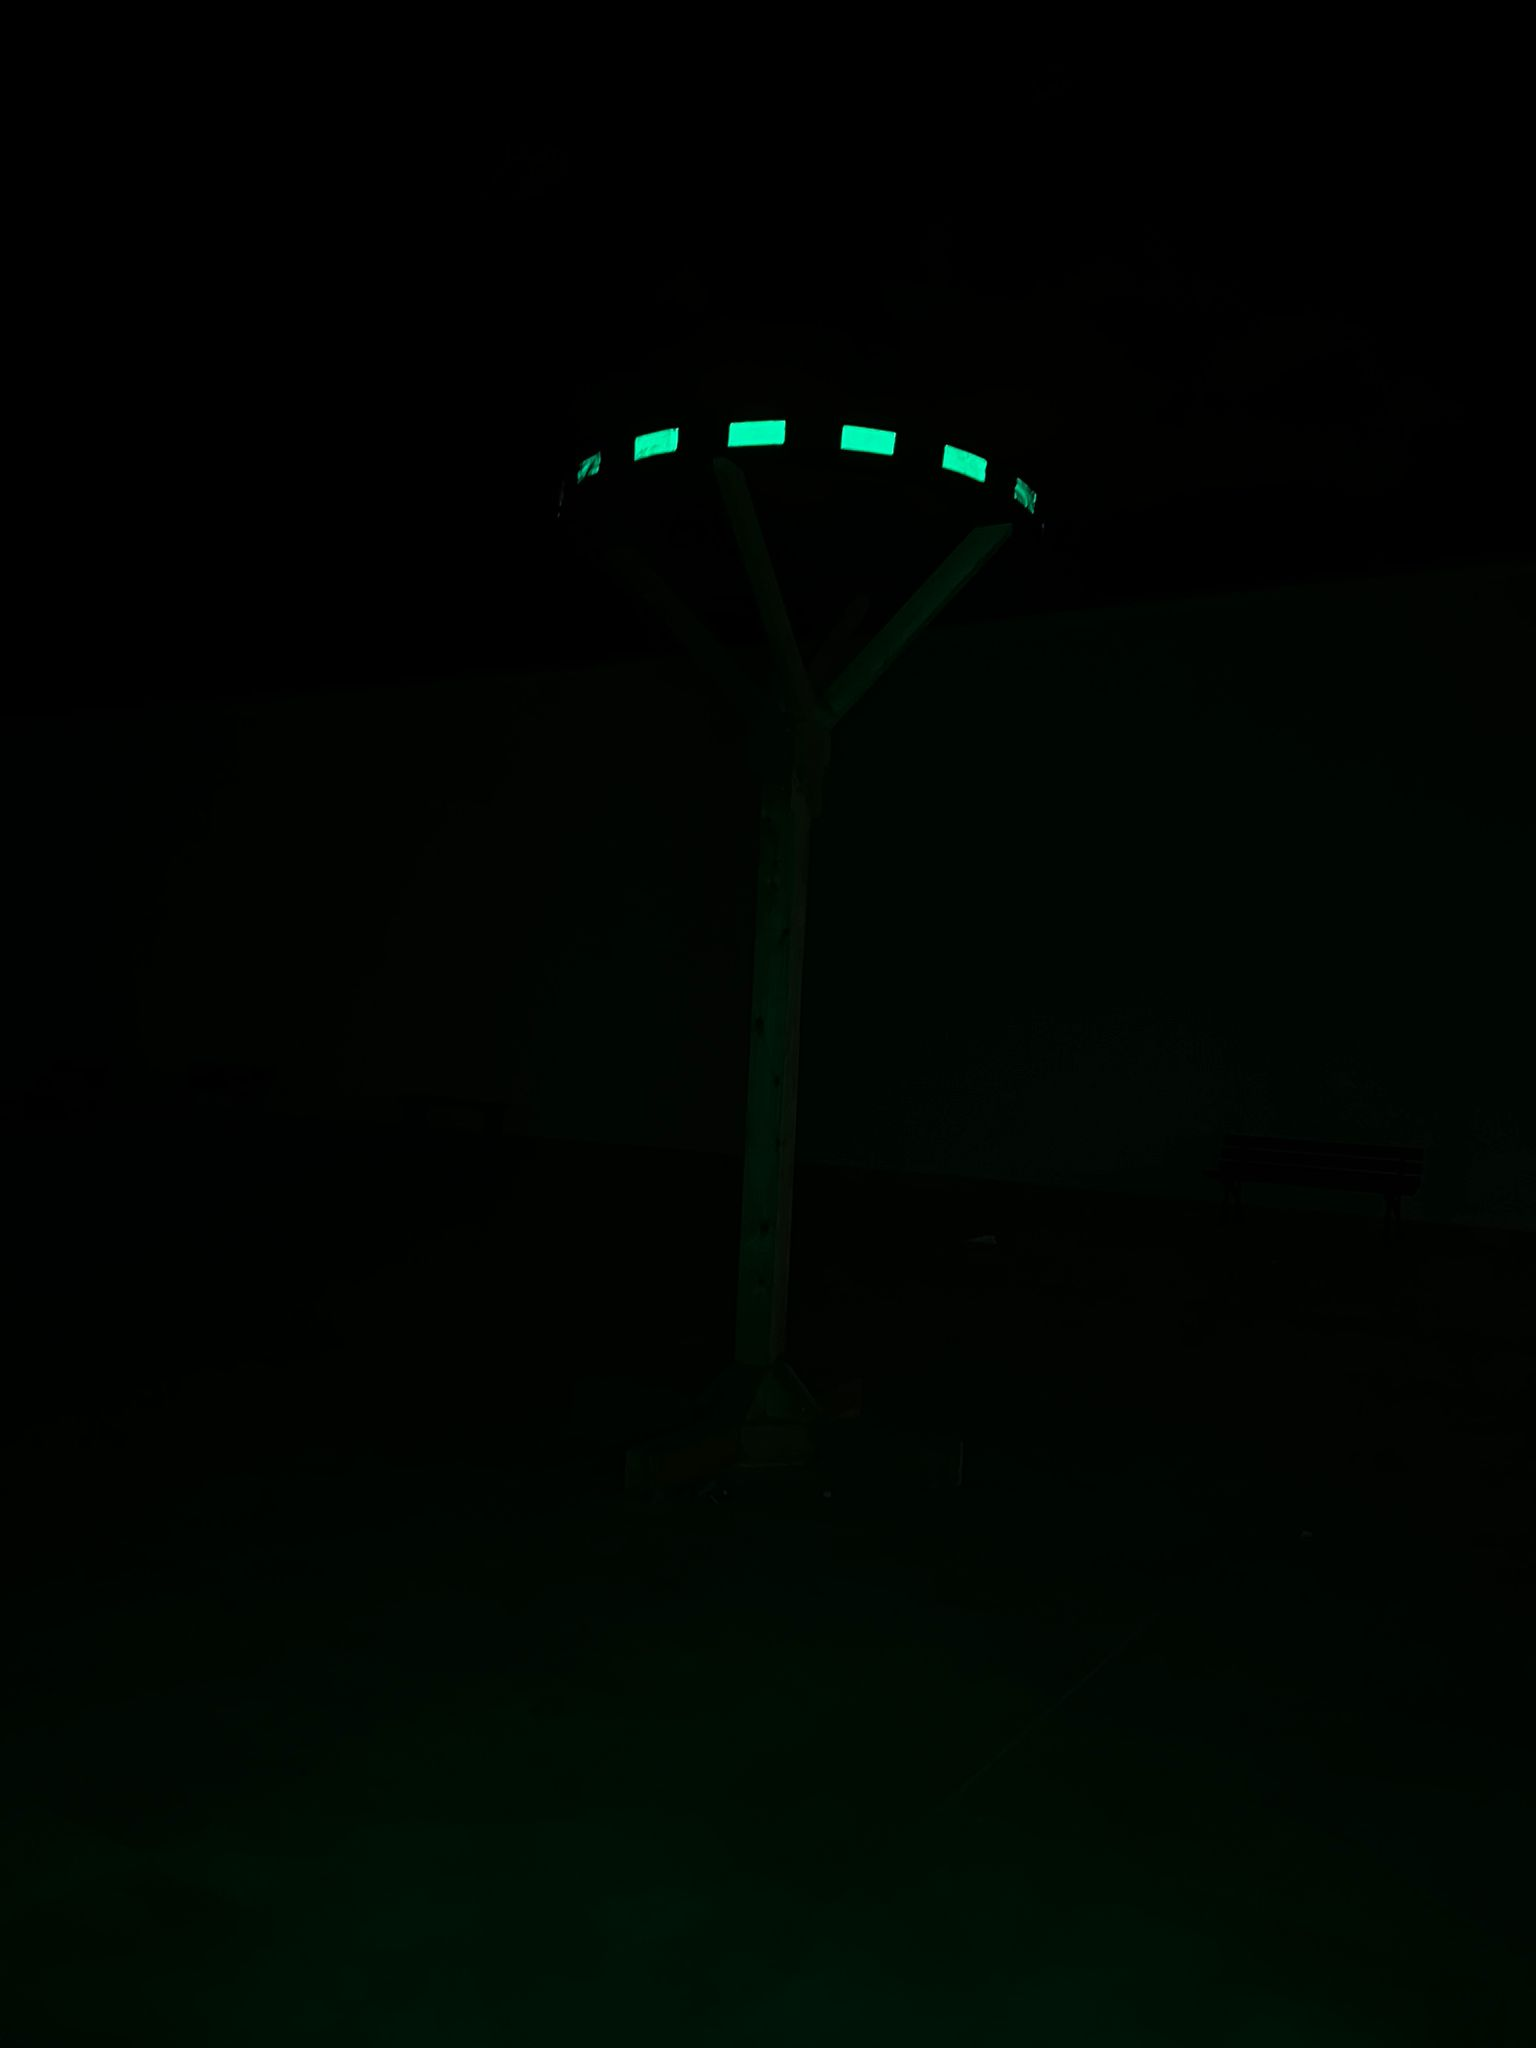hoop: (623, 402, 1037, 518)
